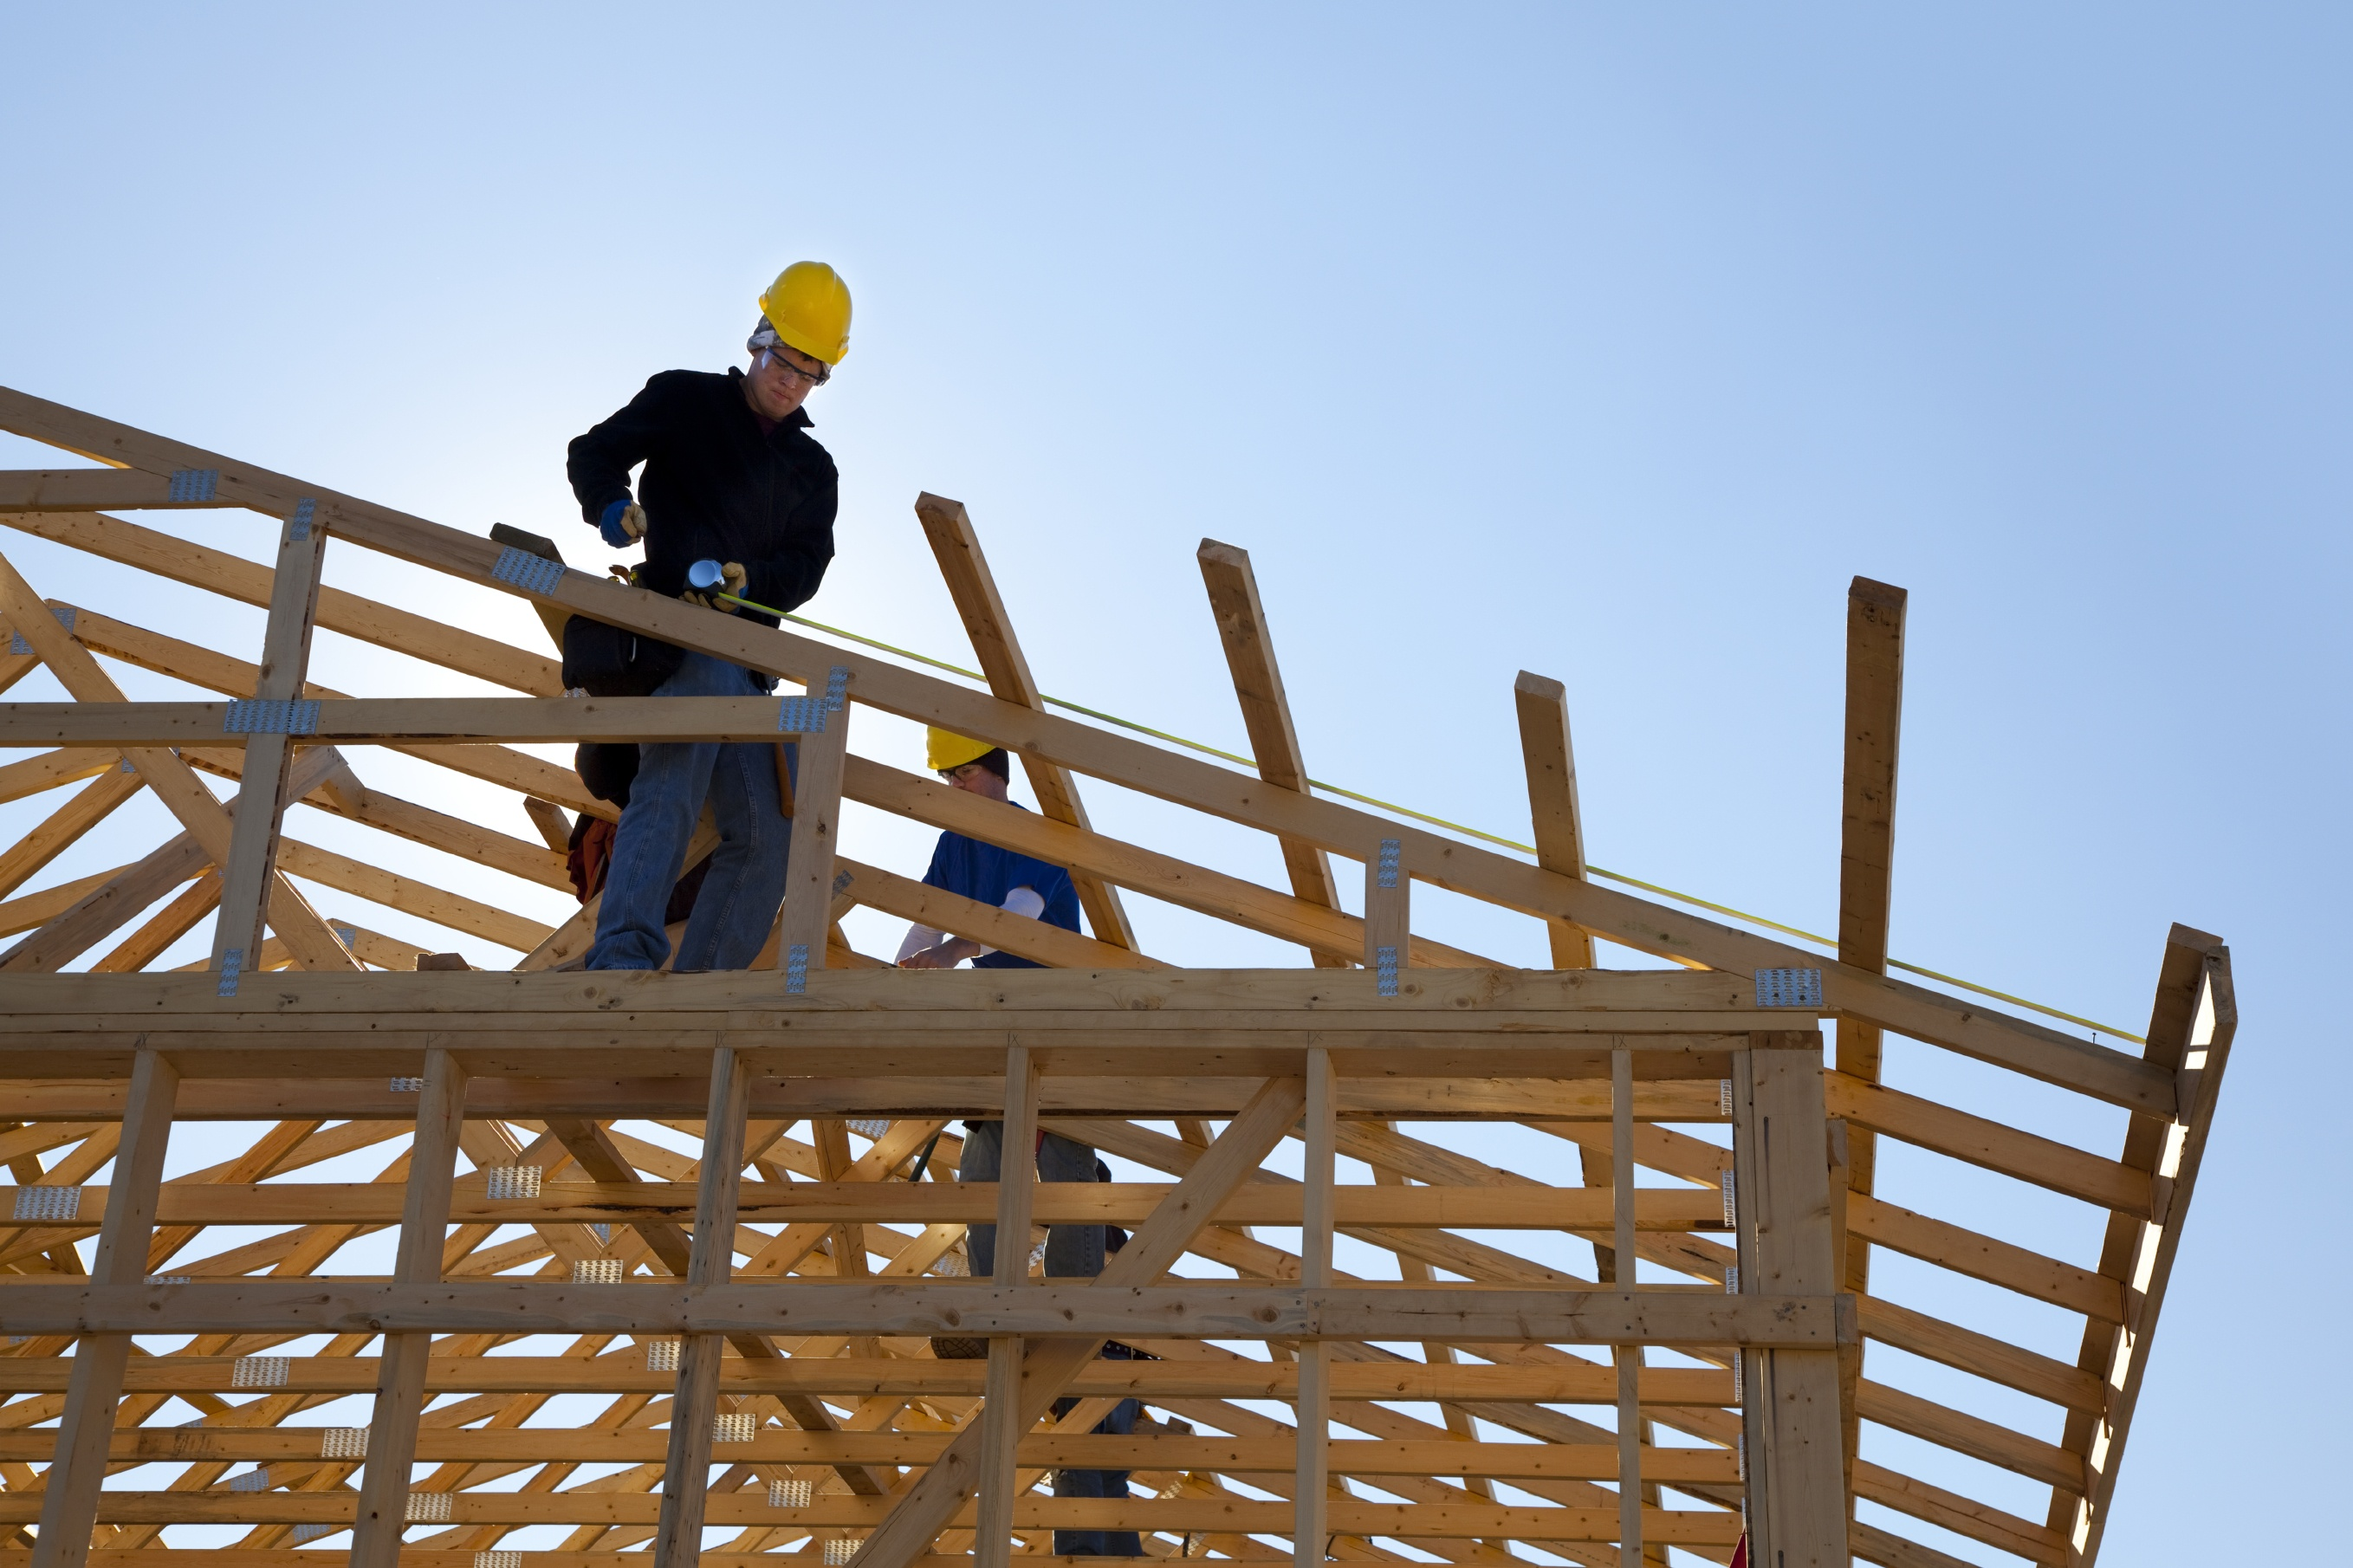yellow: (730, 255, 862, 420), (917, 688, 1015, 815)
